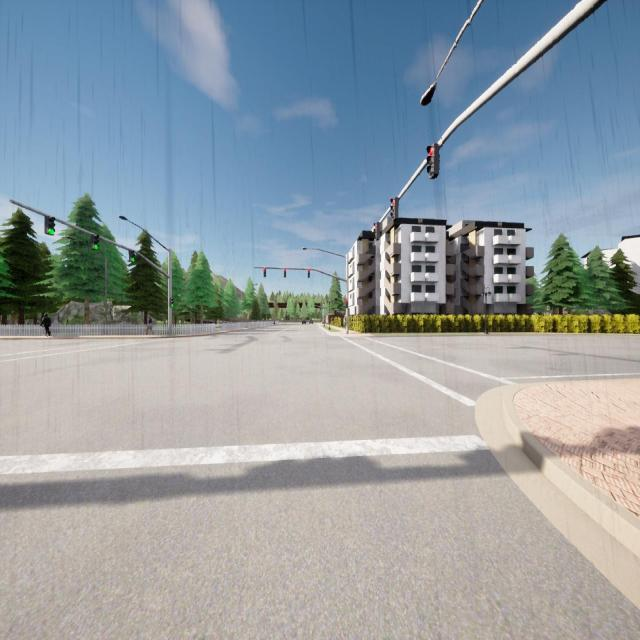Pedestrian: (41, 313, 51, 337), (144, 314, 154, 335)
Vehicle: (308, 319, 314, 324), (302, 320, 306, 325)
traffic_light: (426, 143, 440, 178), (44, 216, 56, 235), (390, 197, 399, 221), (92, 234, 100, 250), (374, 222, 380, 241), (129, 250, 135, 263), (170, 298, 173, 308), (264, 267, 266, 277), (346, 298, 348, 308), (284, 268, 286, 277), (308, 269, 310, 278)
